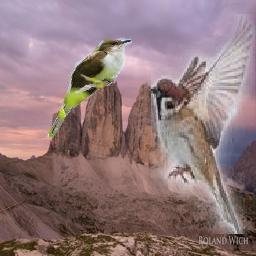Cuckoo: (46, 38, 132, 139)
Sparrow: (151, 14, 255, 234)
